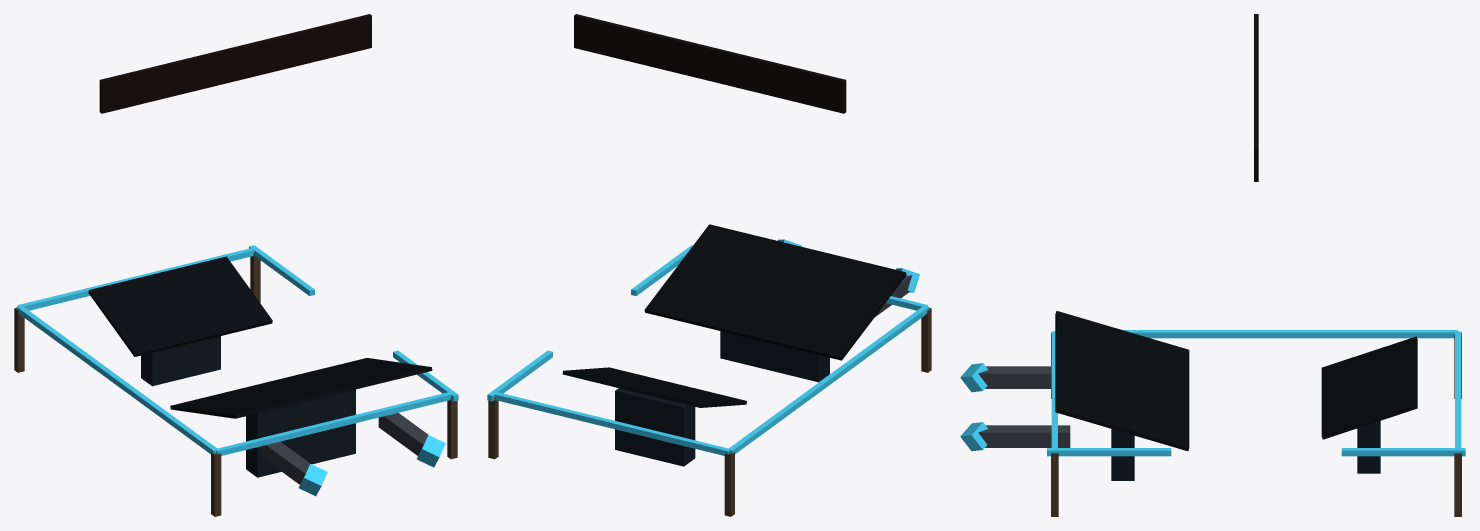
File: skyfleet_bake_20.glb
The picture shows the model from 3 angles, left to right: view 1: azimuth 30°, elevation 25°; view 2: azimuth 150°, elevation 25°; view 3: azimuth 270°, elevation 25°; orthographic projection. The views are drawn at different scales.
Parts seen in each view (by area): view 1: baked; view 2: baked; view 3: baked.
Boxes of the visible parts, box(x1,y1,x2,y2) form: baked: box(14, 14, 458, 516); baked: box(487, 14, 931, 516); baked: box(960, 14, 1465, 516).
Bounding box in the file's own units: 4.12 × 5.34 × 6.52.
